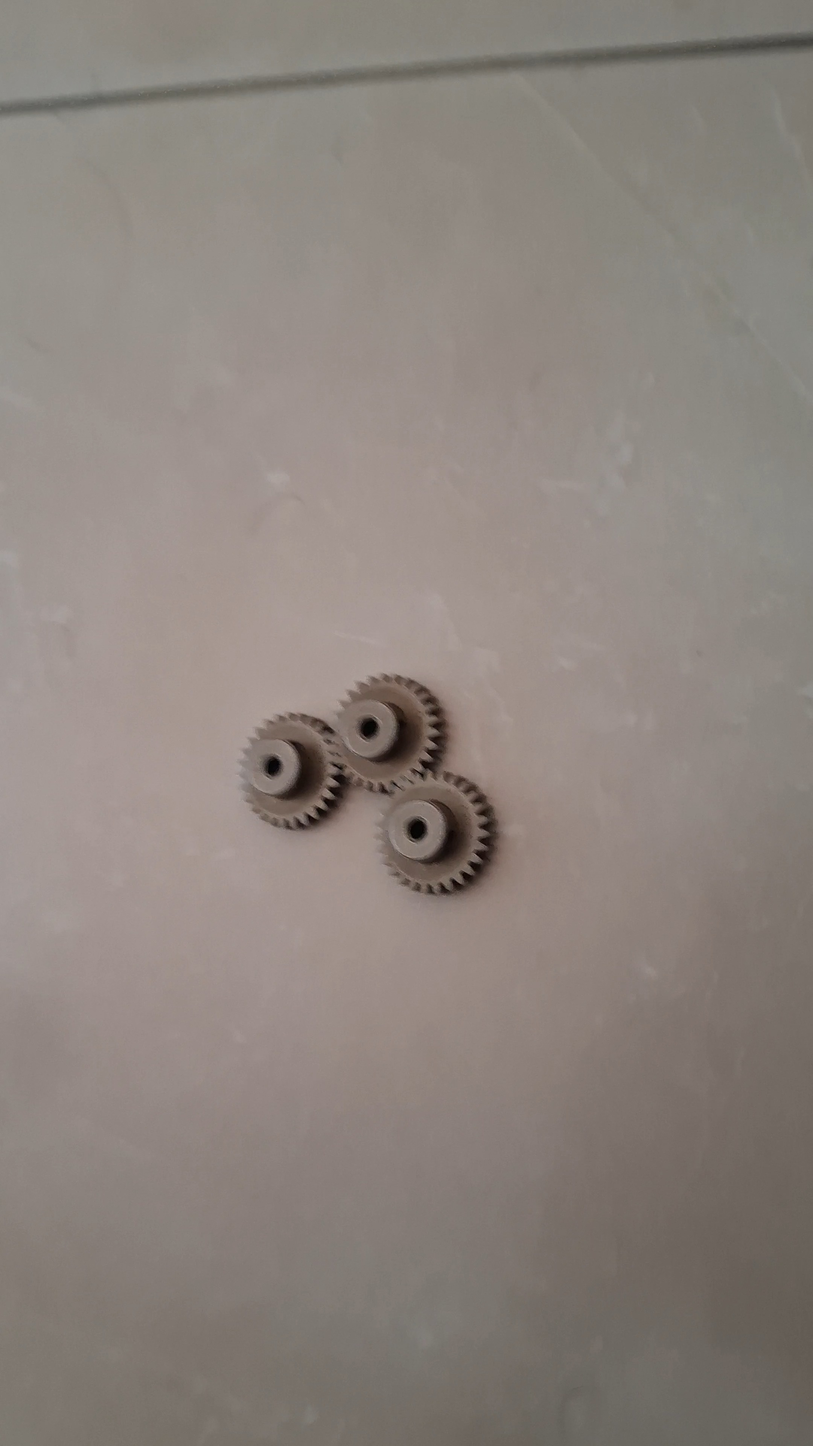spur gear: (380, 772, 495, 894), (336, 675, 443, 792), (242, 713, 344, 828)
